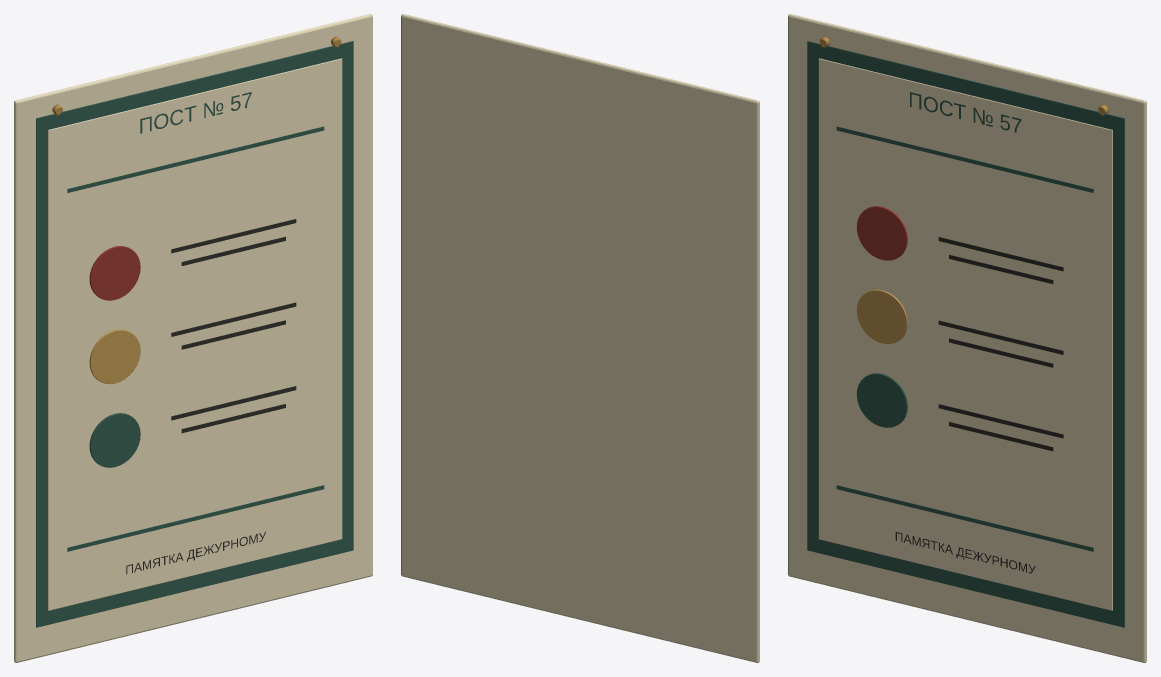
The model's file is Poster_DutyProtocol.fbx.
3 renders of one model, left to right at view 1: azimuth 30°, elevation 25°; view 2: azimuth 150°, elevation 25°; view 3: azimuth 330°, elevation 25°, orthographic.
Parts seen in each view (by area): view 1: Print panel.001, Pinned paper.001, Printed border.001, Signal emblem.001, Signal emblem.002, Signal emblem, Printed rule.005, Printed rule.006, Label.057, Label.056, Instruction line, Instruction line.004 (+1 smaller); view 2: Pinned paper.001; view 3: Print panel.001, Pinned paper.001, Printed border.001, Signal emblem.002, Signal emblem, Signal emblem.001, Printed rule.005, Printed rule.006, Label.057, Label.056, Instruction line, Instruction line.004 (+1 smaller).
Part boxes in pixels (x1,y1,x2,y2): Print panel.001: (48,58,342,610); Pinned paper.001: (14,14,372,662); Printed border.001: (36,41,353,627); Signal emblem.001: (89,329,140,384); Signal emblem.002: (89,246,140,300); Signal emblem: (89,413,140,467); Printed rule.005: (67,485,324,551); Printed rule.006: (67,126,324,192); Label.057: (126,531,265,574); Label.056: (140,92,251,133); Instruction line: (171,386,296,420); Instruction line.004: (171,219,296,253); Pinned paper.001: (401,14,759,662); Print panel.001: (818,58,1112,610); Pinned paper.001: (788,14,1146,662); Printed border.001: (807,41,1124,627); Signal emblem.002: (856,206,907,260); Signal emblem: (856,373,907,427); Signal emblem.001: (856,289,907,344); Printed rule.005: (836,485,1093,551); Printed rule.006: (836,126,1093,192); Label.057: (895,532,1035,573); Label.056: (910,92,1021,132); Instruction line: (938,404,1063,438); Instruction line.004: (938,237,1063,271).
Bounding box in the file's own units: 0.368 × 0.552 × 0.0108.
